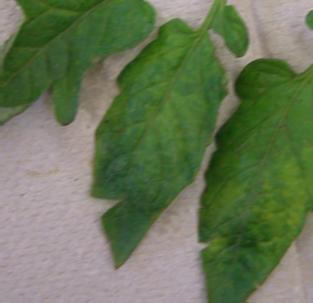Tomato leaf mosaic virus: (193, 49, 313, 303), (99, 28, 221, 272), (0, 0, 152, 174)
